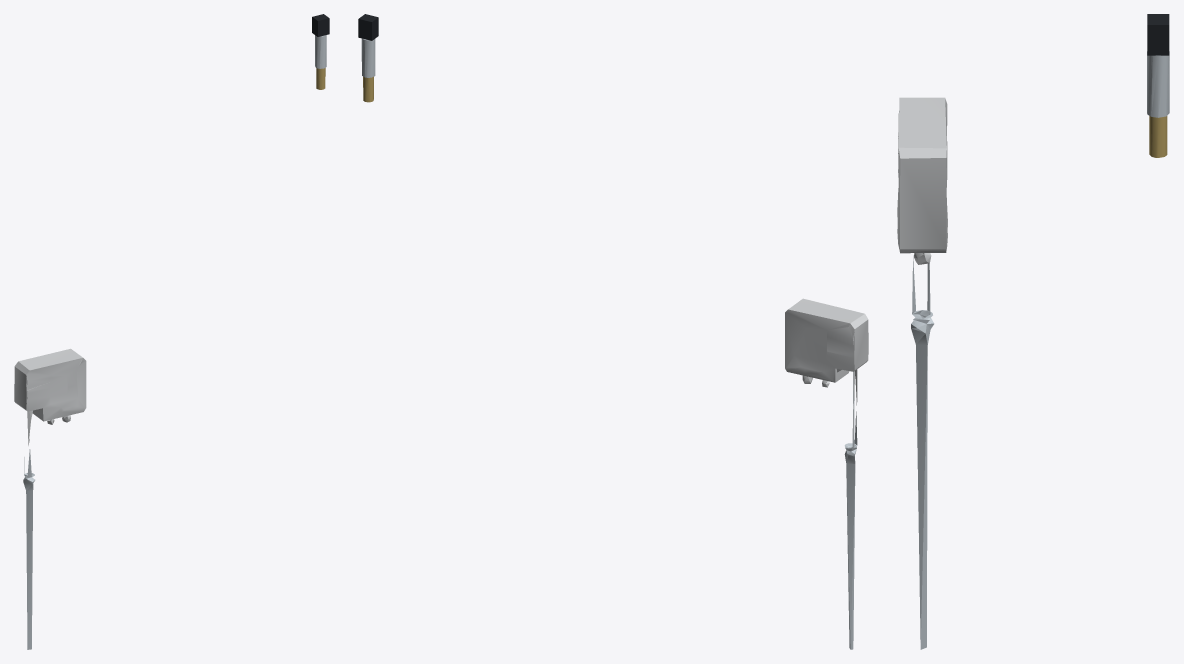
File: trim-comfort.glb
The picture shows the model from 3 angles, left to right: view 1: azimuth 30°, elevation 25°; view 2: azimuth 150°, elevation 25°; view 3: azimuth 270°, elevation 25°; orthographic projection. The views are drawn at different scales.
Parts seen in each view (by area): view 1: lcs600, pressure_transmitter; view 2: lcs600, pressure_transmitter; view 3: lcs600, pressure_transmitter.
Part boxes in pixels (<box>): lcs600: <box>14,348,86,649</box>; pressure_transmitter: <box>312,14,329,89</box>; lcs600: <box>785,298,868,649</box>; pressure_transmitter: <box>358,14,378,102</box>; lcs600: <box>897,97,947,649</box>; pressure_transmitter: <box>1147,14,1169,157</box>.
Bounding box in the file's own units: 1.07 × 1.4 × 0.3597.
